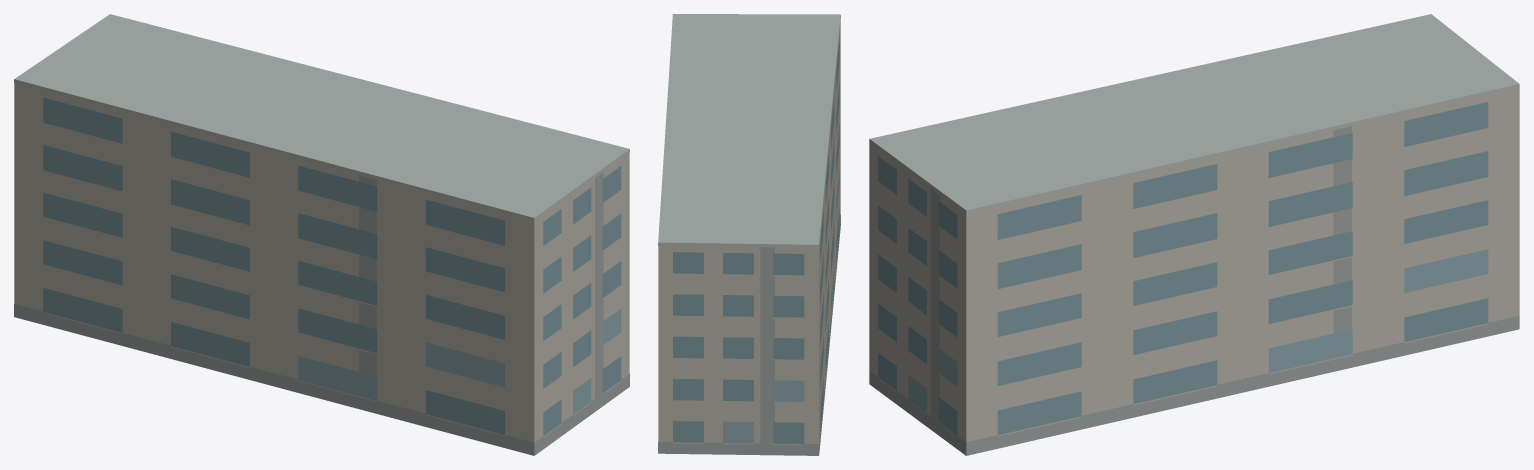
The model's file is residential-5e02efca-44f4-46a0-bfa9-4006fbb4ba54.glb.
The picture shows the model from 3 angles, left to right: view 1: azimuth 30°, elevation 25°; view 2: azimuth 150°, elevation 25°; view 3: azimuth 270°, elevation 25°; orthographic projection. The views are drawn at different scales.
Visible parts, largest first — view 1: residential-5e02efca-44f4-46a0-bfa9-4006fbb4ba54.tmp; view 2: residential-5e02efca-44f4-46a0-bfa9-4006fbb4ba54.tmp; view 3: residential-5e02efca-44f4-46a0-bfa9-4006fbb4ba54.tmp.
Boxes of the visible parts, x1=… form: residential-5e02efca-44f4-46a0-bfa9-4006fbb4ba54.tmp: x1=14, y1=14, x2=629, y2=455; residential-5e02efca-44f4-46a0-bfa9-4006fbb4ba54.tmp: x1=658, y1=14, x2=840, y2=455; residential-5e02efca-44f4-46a0-bfa9-4006fbb4ba54.tmp: x1=869, y1=14, x2=1519, y2=455.
Bounding box in the file's own units: 26.18 × 15.25 × 36.61.
